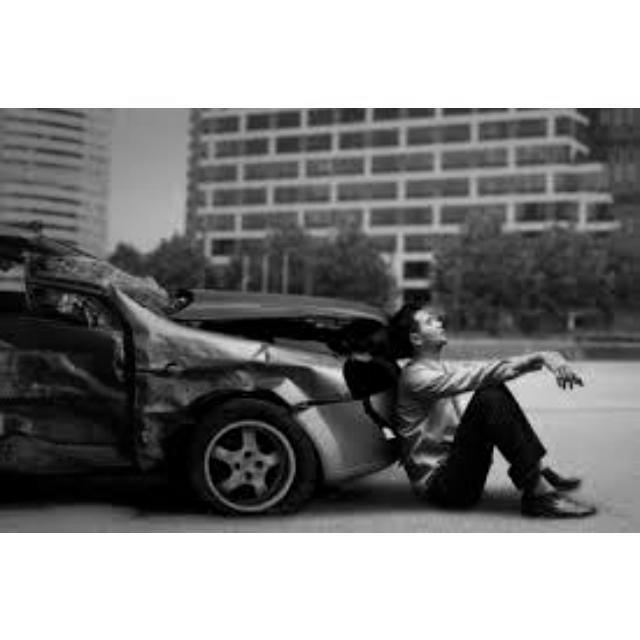Front-windscreen-damage: (45, 226, 168, 300)
doorouter-dent: (7, 312, 128, 449)
fender-dent: (133, 306, 351, 403)
